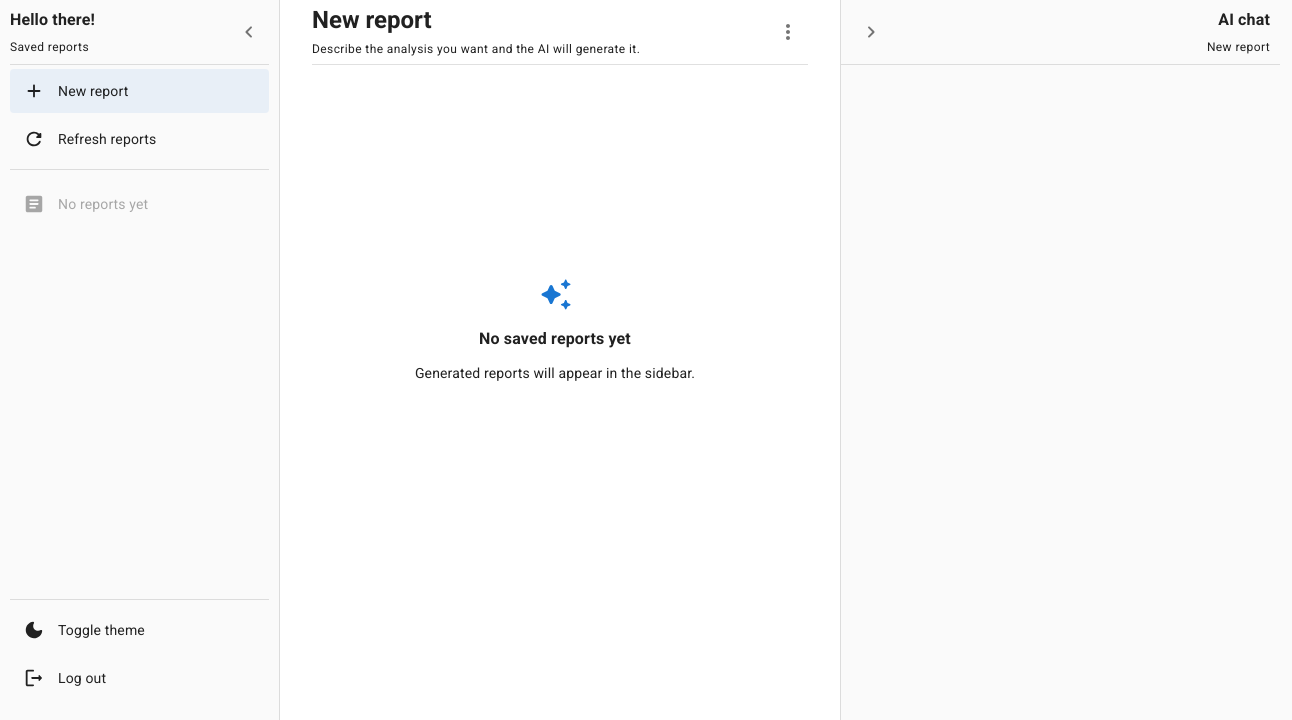
Test: <HomePage /> › toggles both menu and chat drawers
The width and height of the screenshot is (1292, 720).
Click the button named "collapse menu" at (249, 32), box [229,12,269,52]
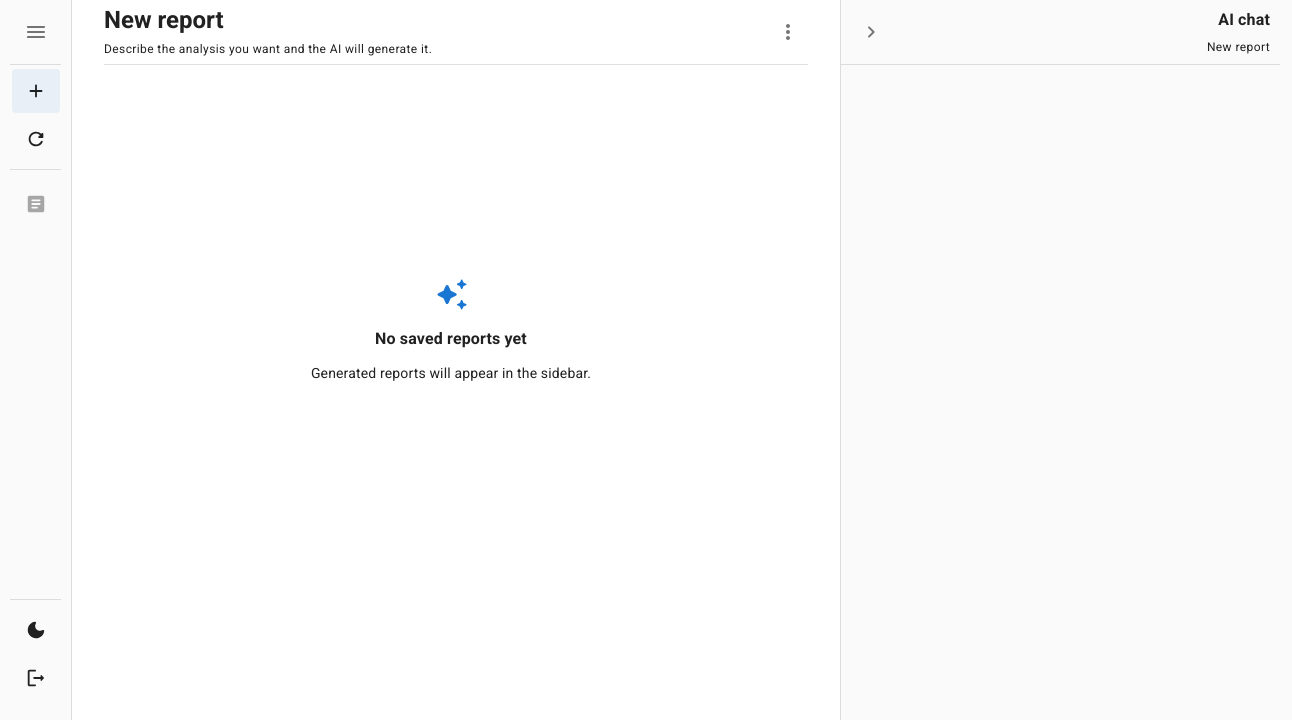
Click the button named "collapse chat drawer" at (871, 32), box [851,12,891,52]
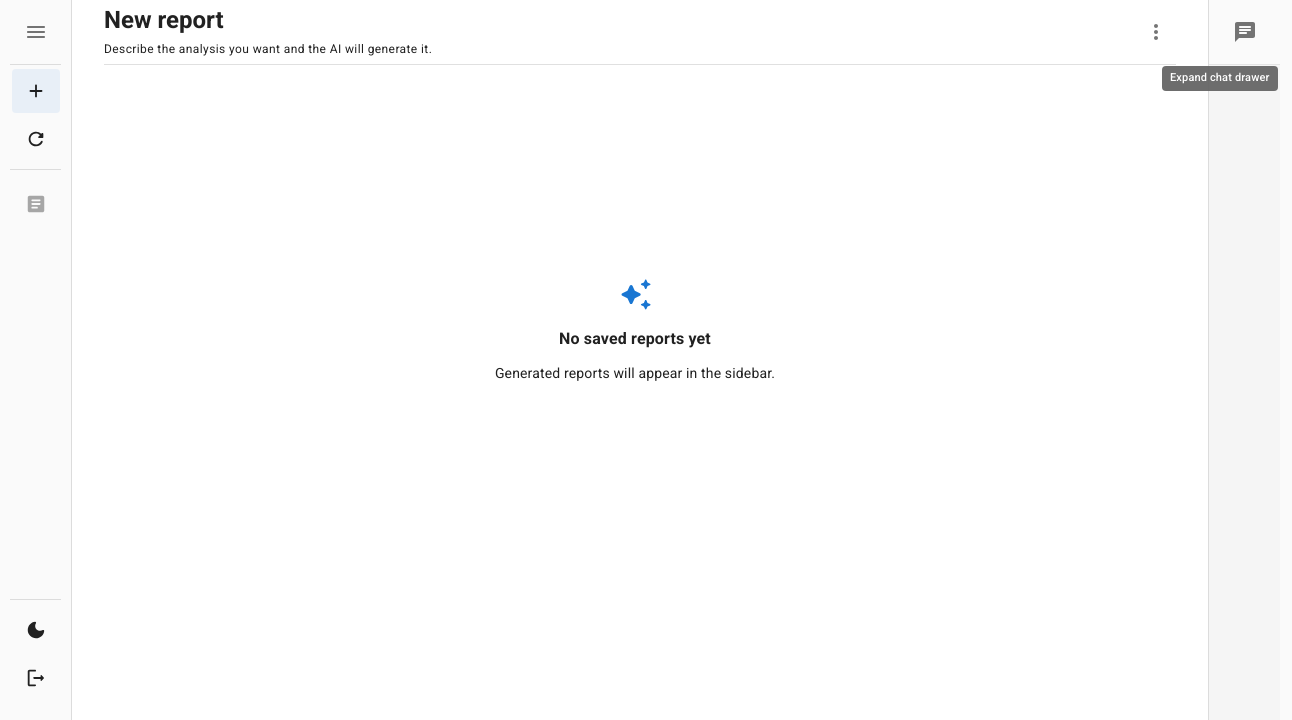
Expected: the button named "expand menu" is shown
Expected: the button named "expand chat drawer" is shown, [1224,12,1264,52]
Click the button named "expand menu" at (36, 32), box [16,12,56,52]
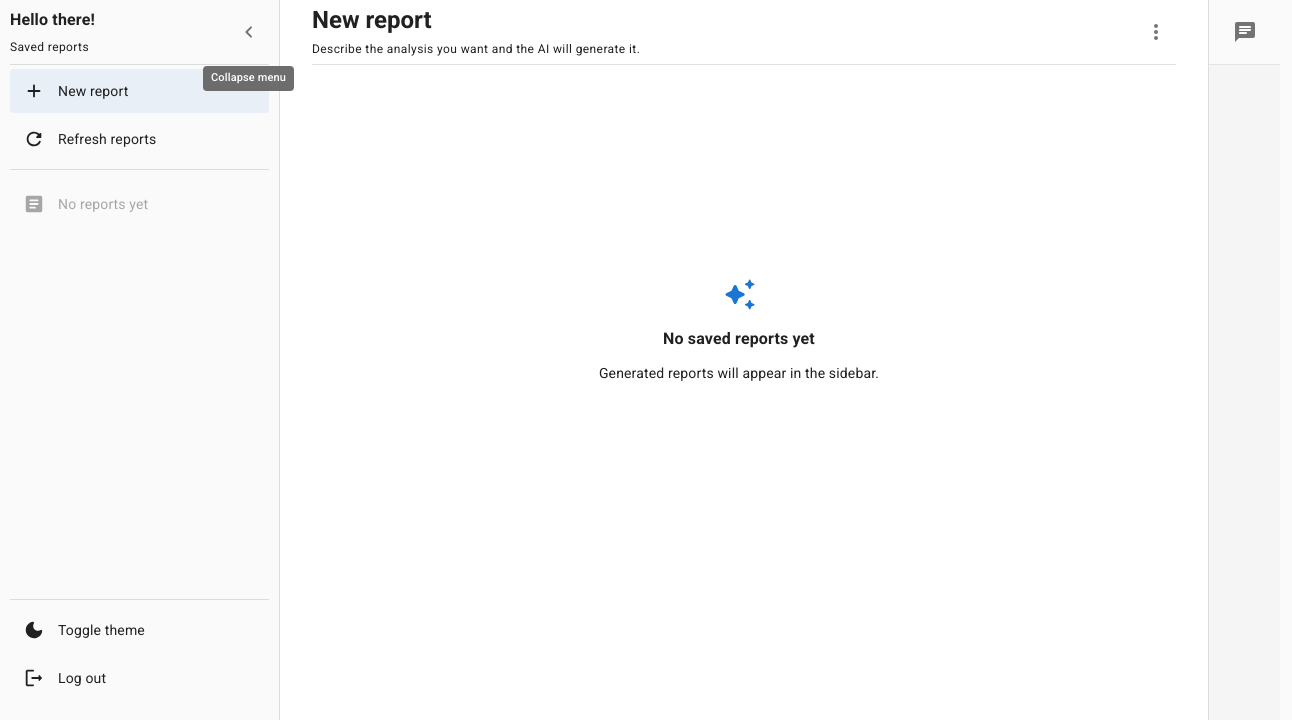
Click the button named "expand chat drawer" at (1244, 32), box [1224,12,1264,52]
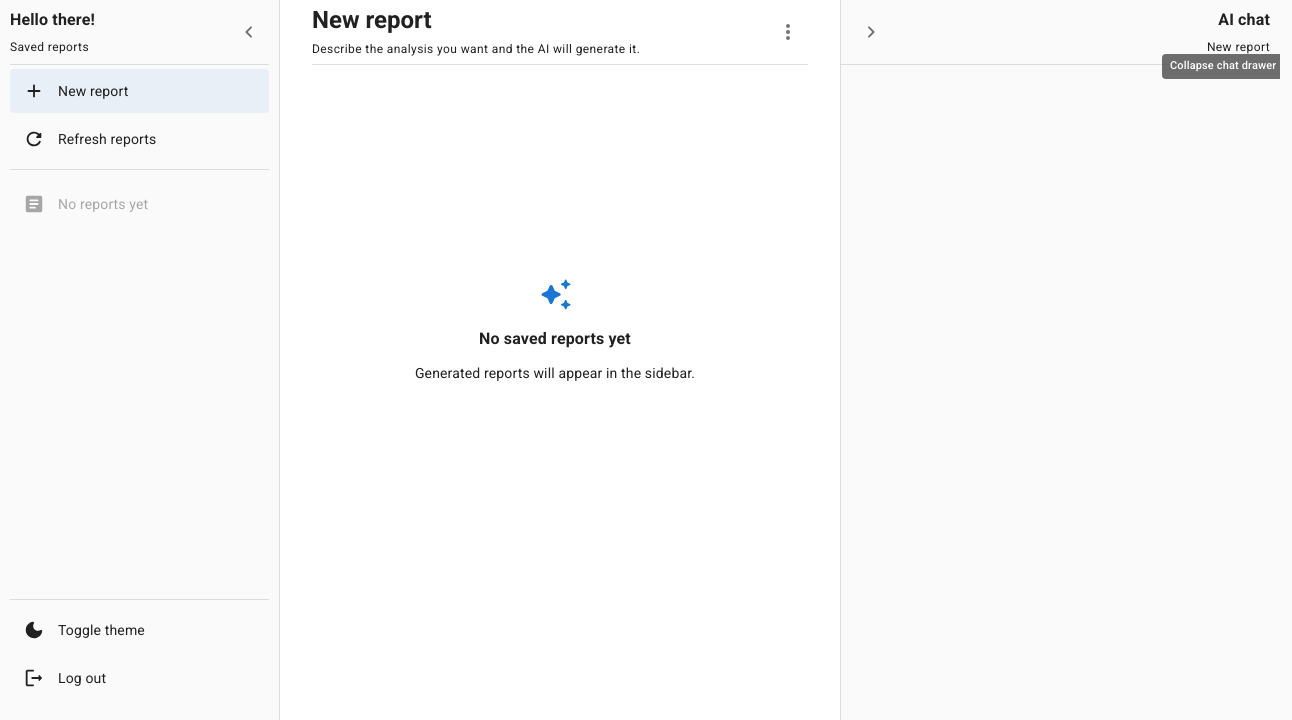
Expected: the button named "collapse menu" is shown, [229,12,269,52]
Expected: the button named "collapse chat drawer" is shown, [851,12,891,52]
